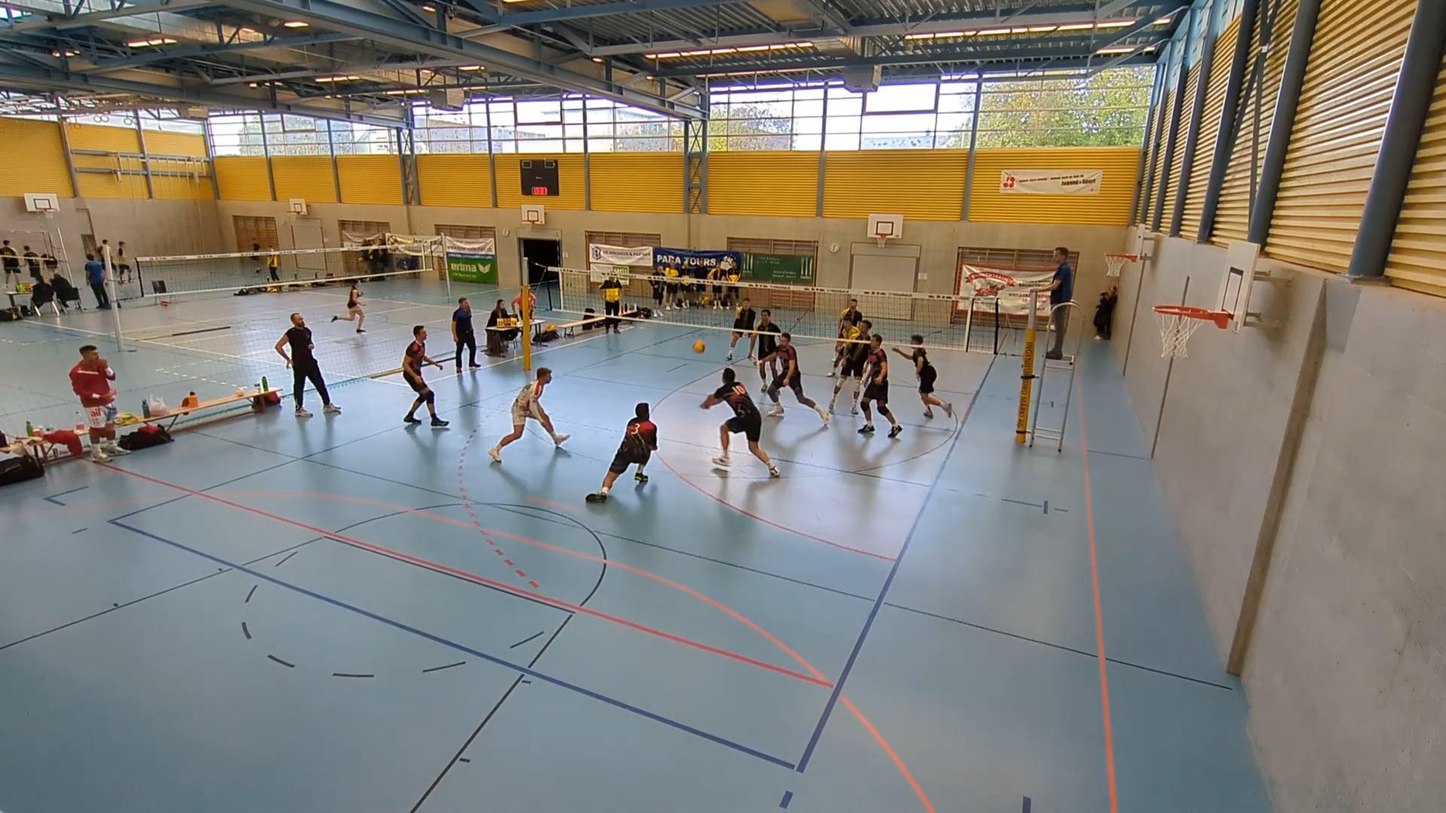Dig: (699, 365, 783, 481)
Player: (488, 367, 569, 462), (585, 403, 657, 502), (766, 332, 828, 427), (894, 334, 952, 417), (402, 325, 448, 427), (859, 335, 901, 438), (829, 320, 871, 414), (755, 309, 780, 392), (827, 317, 859, 376), (726, 297, 755, 360), (838, 298, 863, 327)
ball: (692, 342, 710, 354)
